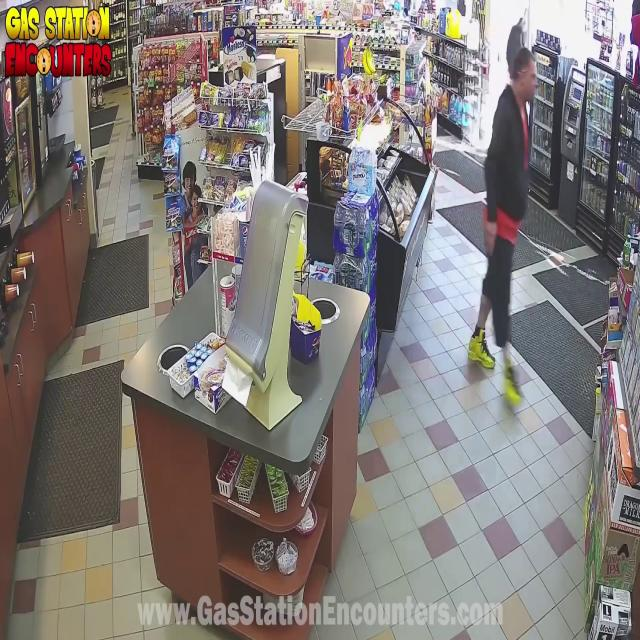normal: (464, 31, 555, 409)
